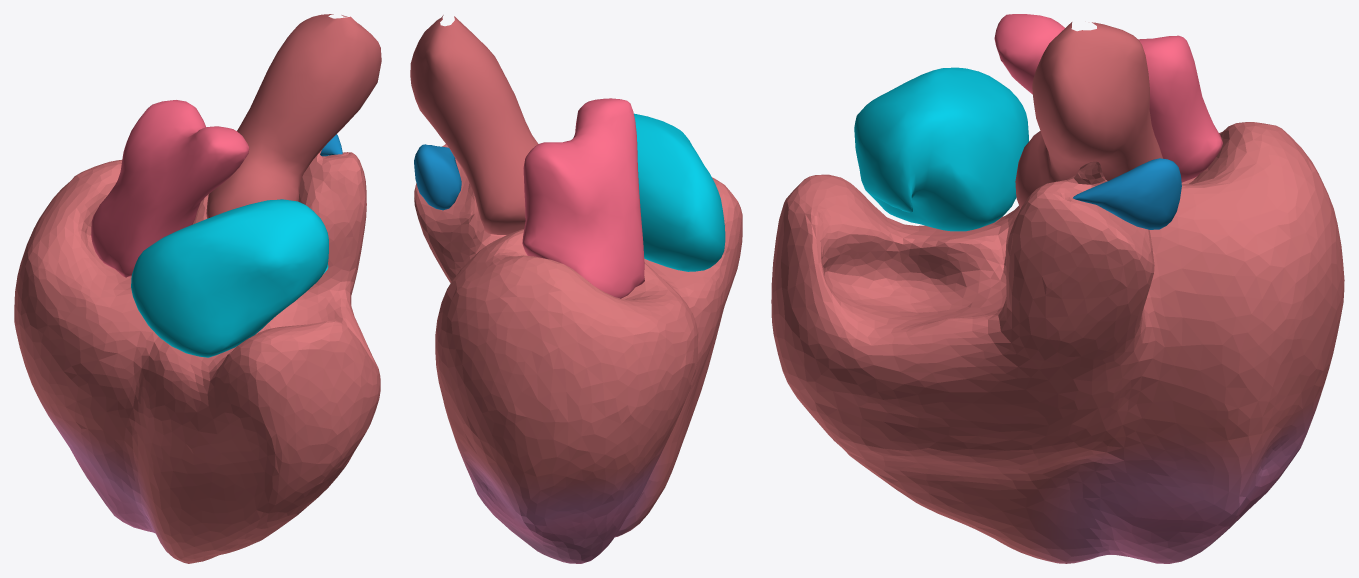
File: frame_63.glb
3 renders of one model, left to right at view 1: azimuth 30°, elevation 25°; view 2: azimuth 150°, elevation 25°; view 3: azimuth 270°, elevation 25°, orthographic. The views are drawn at different scales.
Parts seen in each view (by area): view 1: Renderer Node; view 2: Renderer Node; view 3: Renderer Node.
Boxes of the visible parts, x1,y1,x2,y2 form: Renderer Node: (14,14,381,563); Renderer Node: (410,15,742,563); Renderer Node: (771,14,1344,563).
Size of the model in its own units: 102 by 158 by 129.
